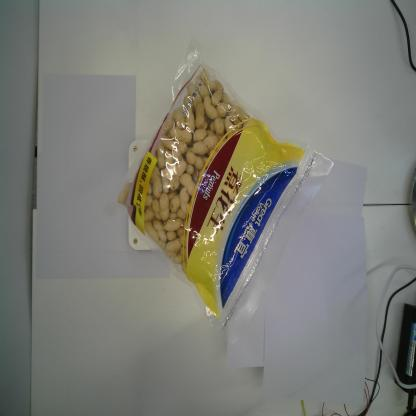Dried Food: (118, 38, 336, 339)
